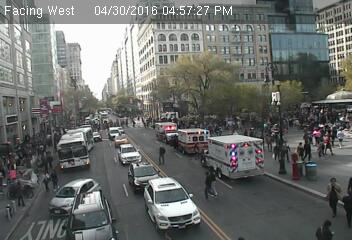neg: (39, 51, 64, 85), (210, 30, 229, 54), (311, 35, 329, 58), (26, 36, 43, 58), (286, 30, 302, 52), (70, 136, 86, 157), (65, 52, 80, 72), (66, 35, 80, 54), (11, 61, 24, 79), (267, 34, 280, 51), (93, 125, 102, 138), (71, 84, 80, 97), (262, 71, 271, 83), (94, 49, 102, 60), (251, 57, 258, 66), (241, 67, 247, 75)
pos: (315, 175, 346, 216), (194, 171, 215, 200), (48, 167, 67, 193), (11, 182, 30, 208), (334, 125, 351, 148), (153, 144, 169, 166), (129, 118, 136, 127)
